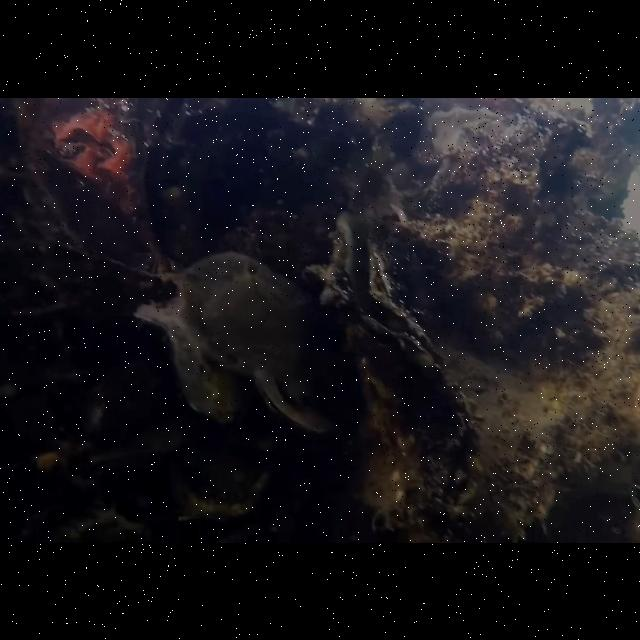Oyster-Closed: (176, 249, 352, 433)
Oyster-Open: (306, 207, 448, 373)
